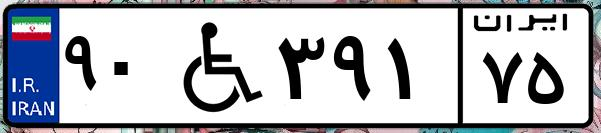0: (110, 28, 158, 98)
1: (385, 28, 445, 110)
3: (270, 28, 330, 110)
5: (525, 38, 570, 115)
7: (475, 38, 525, 113)
9: (330, 28, 385, 110), (57, 26, 110, 100)
ژ (معلولین و جانبازان): (158, 12, 270, 120)
